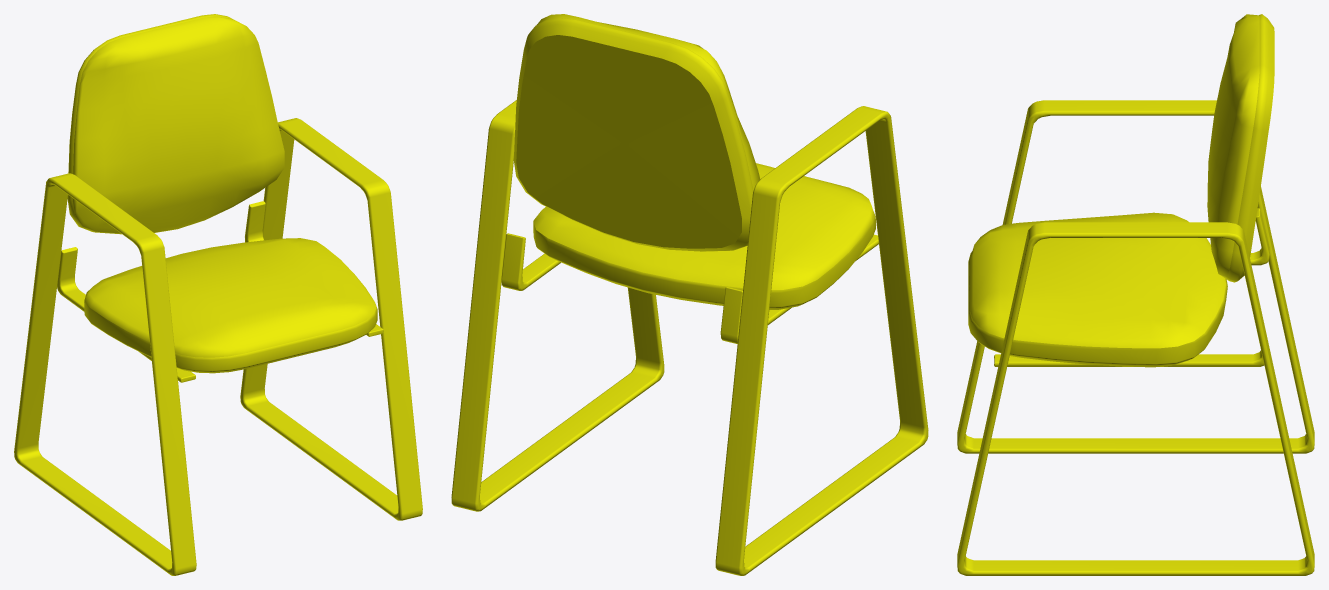
Rendered from chair1.fbx.
3 renders of one model, left to right at view 1: azimuth 30°, elevation 25°; view 2: azimuth 150°, elevation 25°; view 3: azimuth 270°, elevation 25°, orthographic. The views are drawn at different scales.
Visible parts, largest first — view 1: chair1; view 2: chair1; view 3: chair1.
Boxes of the visible parts, x1=… form: chair1: x1=14, y1=14, x2=422, y2=575; chair1: x1=451, y1=14, x2=928, y2=575; chair1: x1=957, y1=14, x2=1314, y2=575.
Bounding box in the file's own units: 55 × 89.17 × 61.82.
